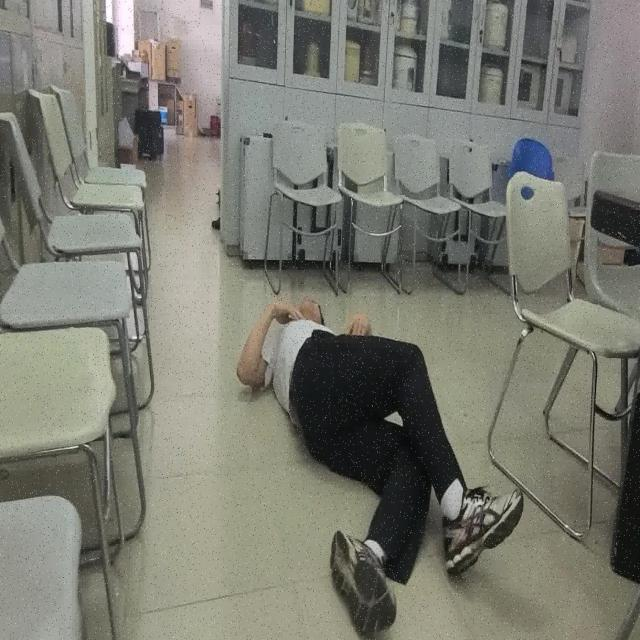fall: (236, 294, 524, 640)
